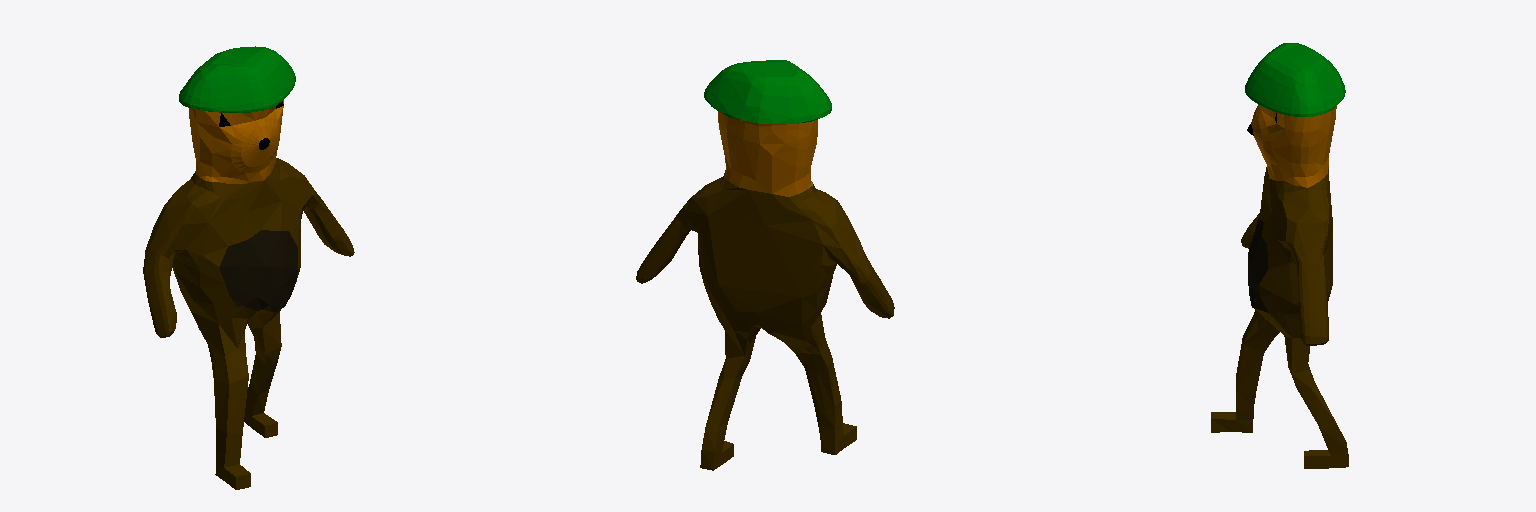
The model's file is bear.obj.
3 renders of one model, left to right at view 1: azimuth 30°, elevation 25°; view 2: azimuth 150°, elevation 25°; view 3: azimuth 270°, elevation 25°, orthographic.
Parts seen in each view (by area): view 1: pCube2; view 2: pCube2; view 3: pCube2.
Boxes of the visible parts, x1=… form: pCube2: x1=143, y1=46, x2=354, y2=489; pCube2: x1=636, y1=60, x2=894, y2=470; pCube2: x1=1211, y1=43, x2=1348, y2=468.
Bounding box in the file's own units: 3.96 × 6.62 × 2.12.